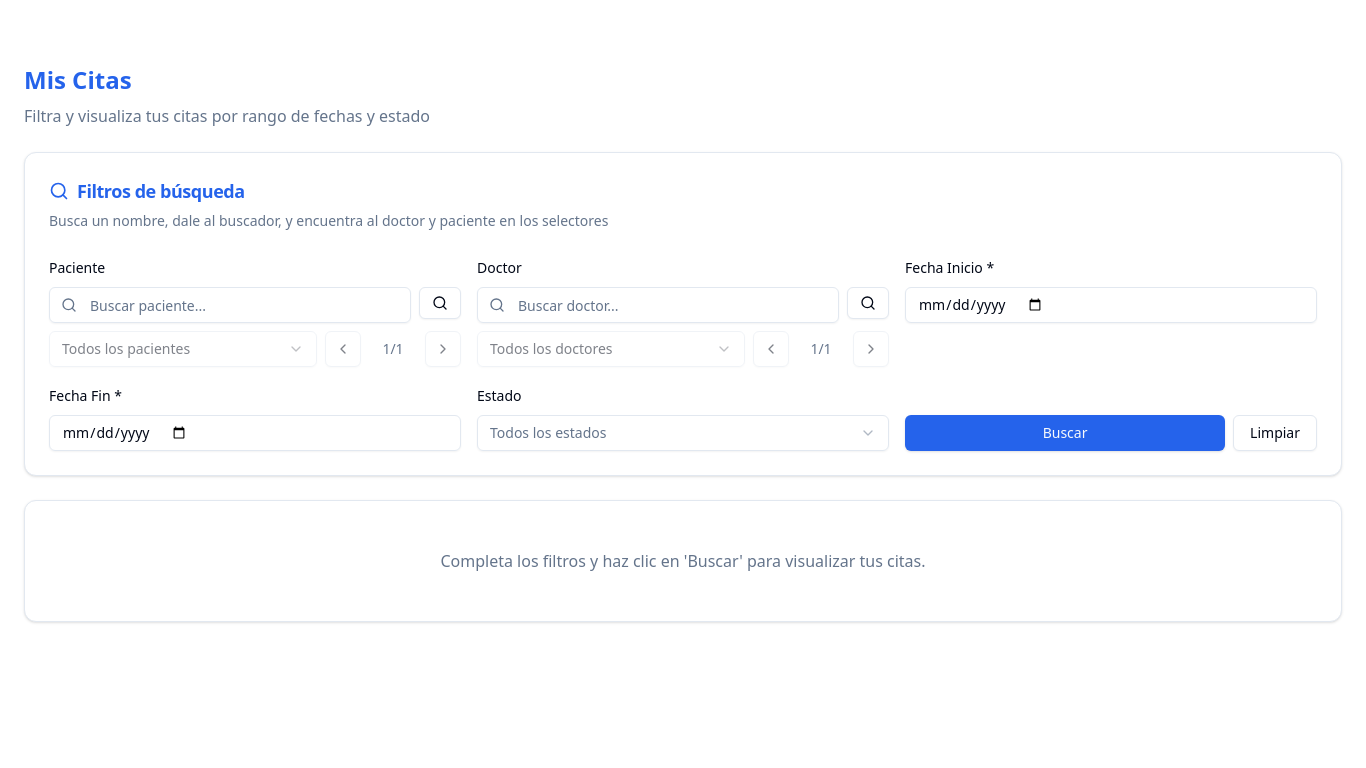
ListAppointmentsComponent › Resetear filtros › debe limpiar filtros y resultados al hacer clic en Limpiar
Type "2025-04-01" into the date field below "Fecha Inicio *" at [1111, 305], box [905,287,1317,323]
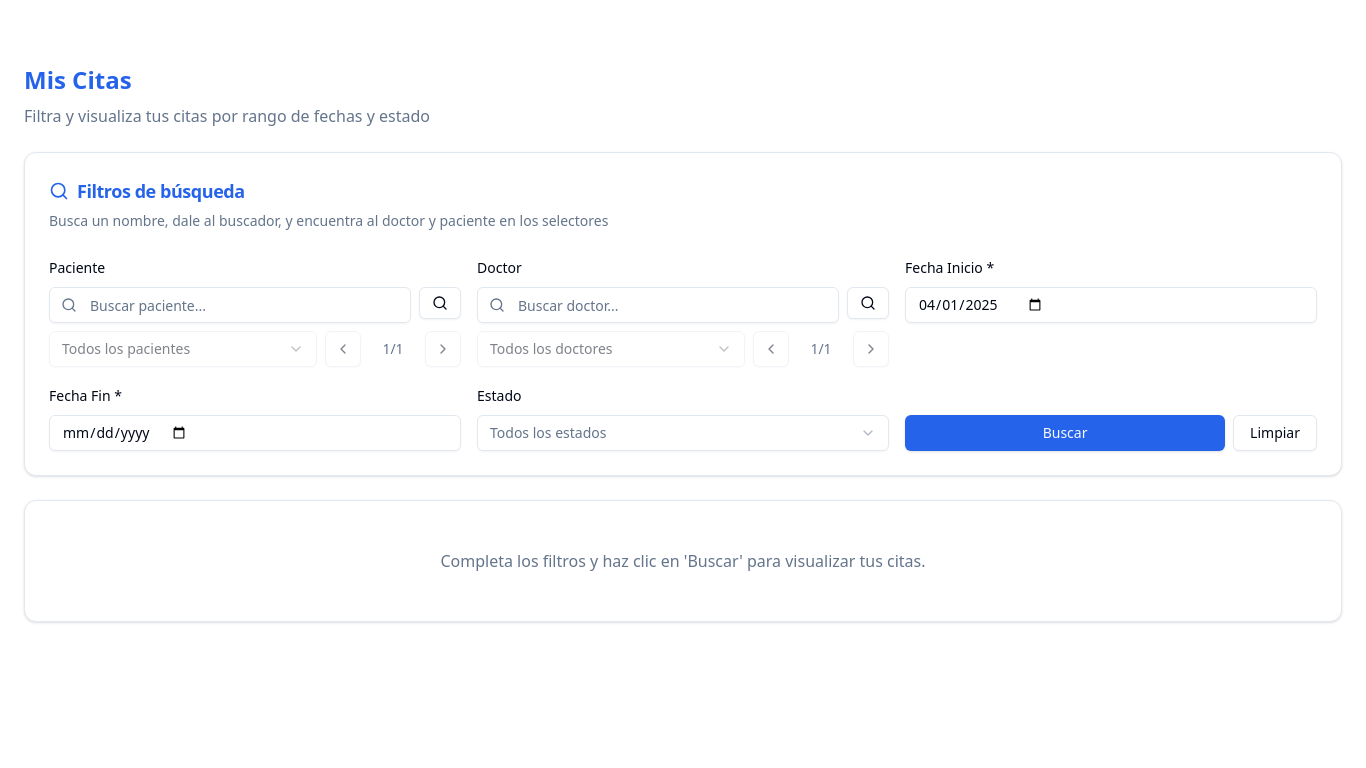
Type "2025-04-30" into the date field below "Fecha Fin *" at [255, 433], box [49,415,461,451]
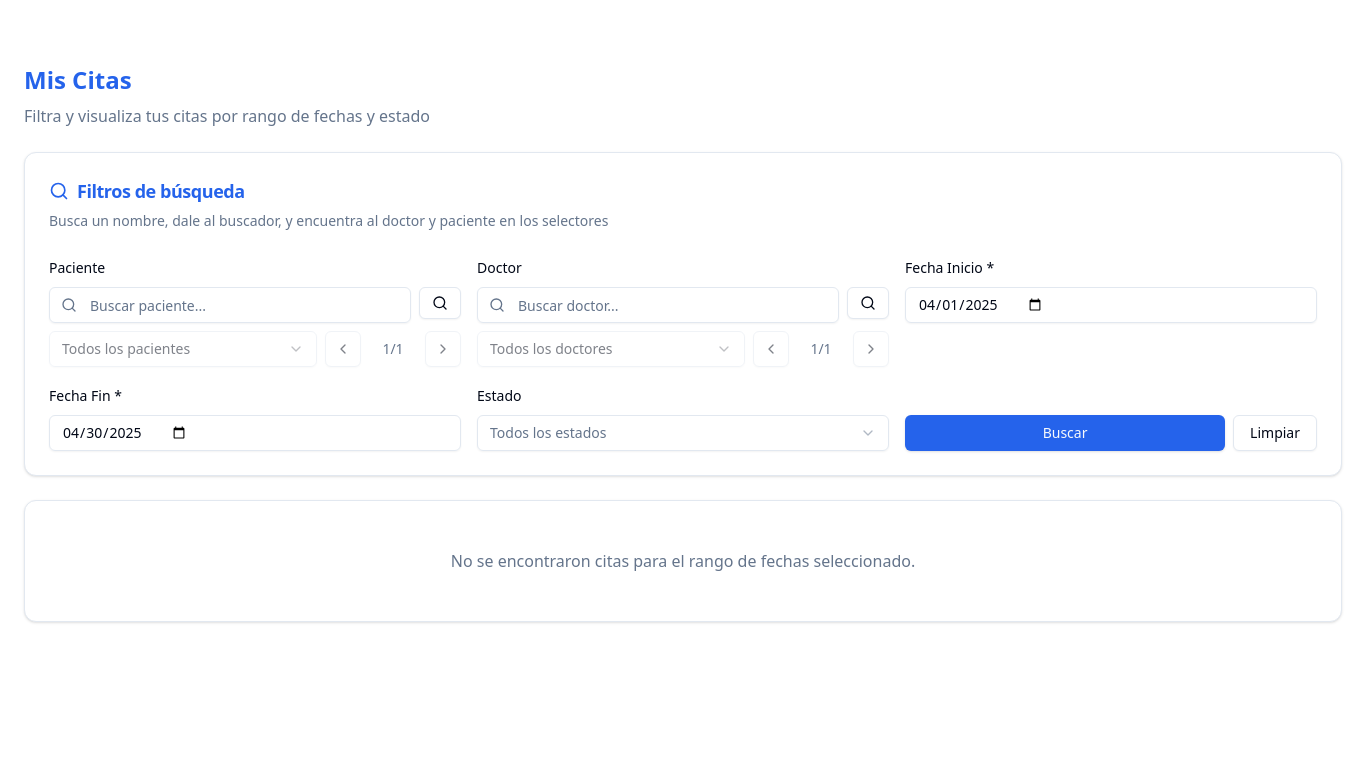
Click the button "Buscar" at [1065, 433], box [905,415,1225,451]
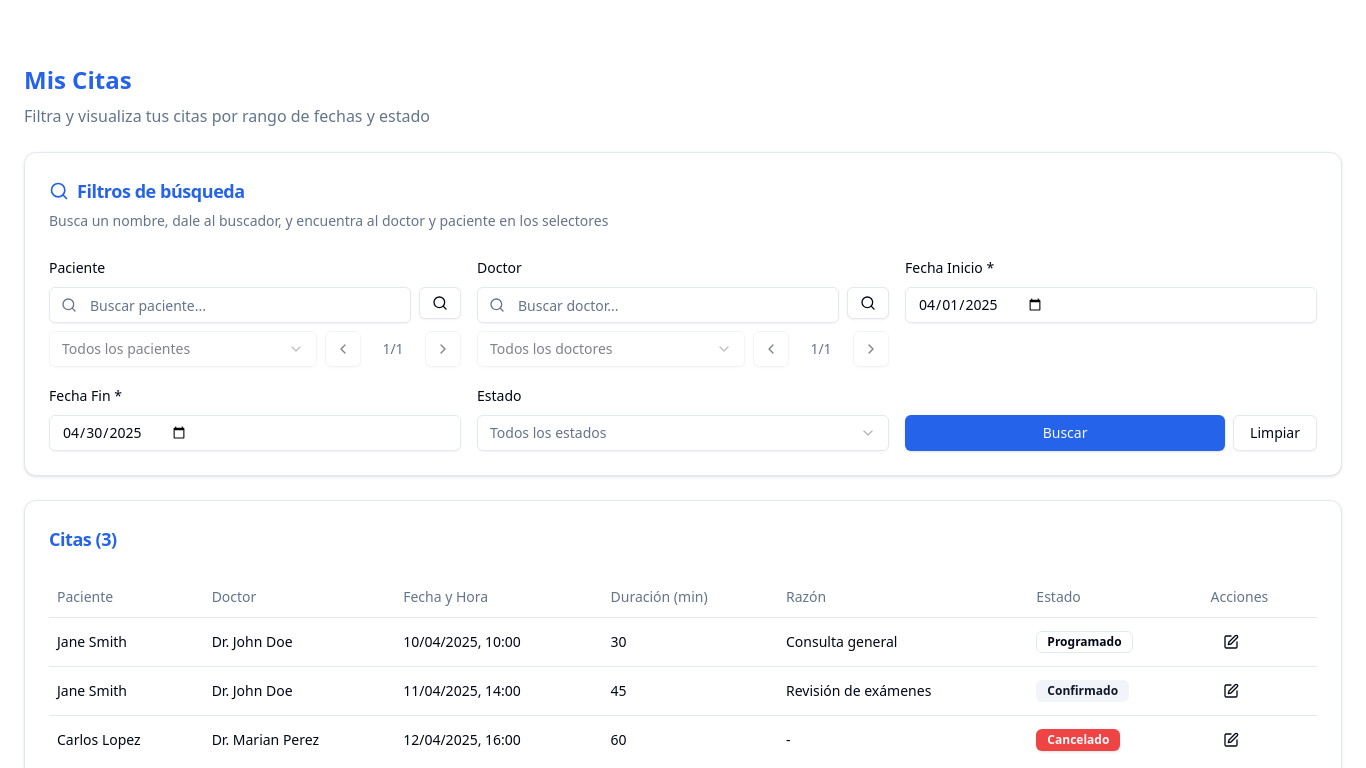
Now the text "Citas (3)" is shown, box [49,527,117,551]
Click the button "Limpiar" at [1275, 433], box [1233,415,1317,451]
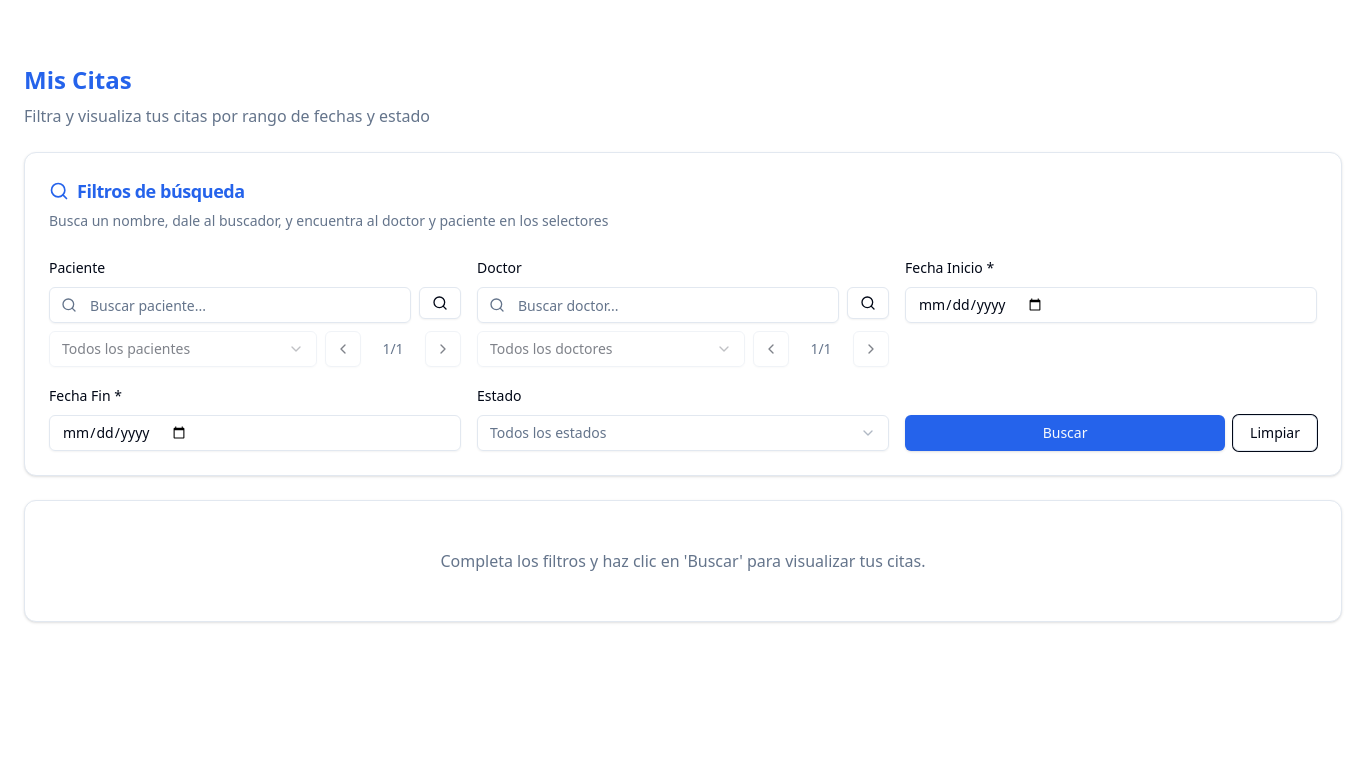
Now the text "Citas (3)" is gone
Now the text "Completa los filtros y haz clic en 'Buscar'" is shown, box [440,550,926,572]
